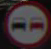No overtake: (6, 3, 47, 43)
